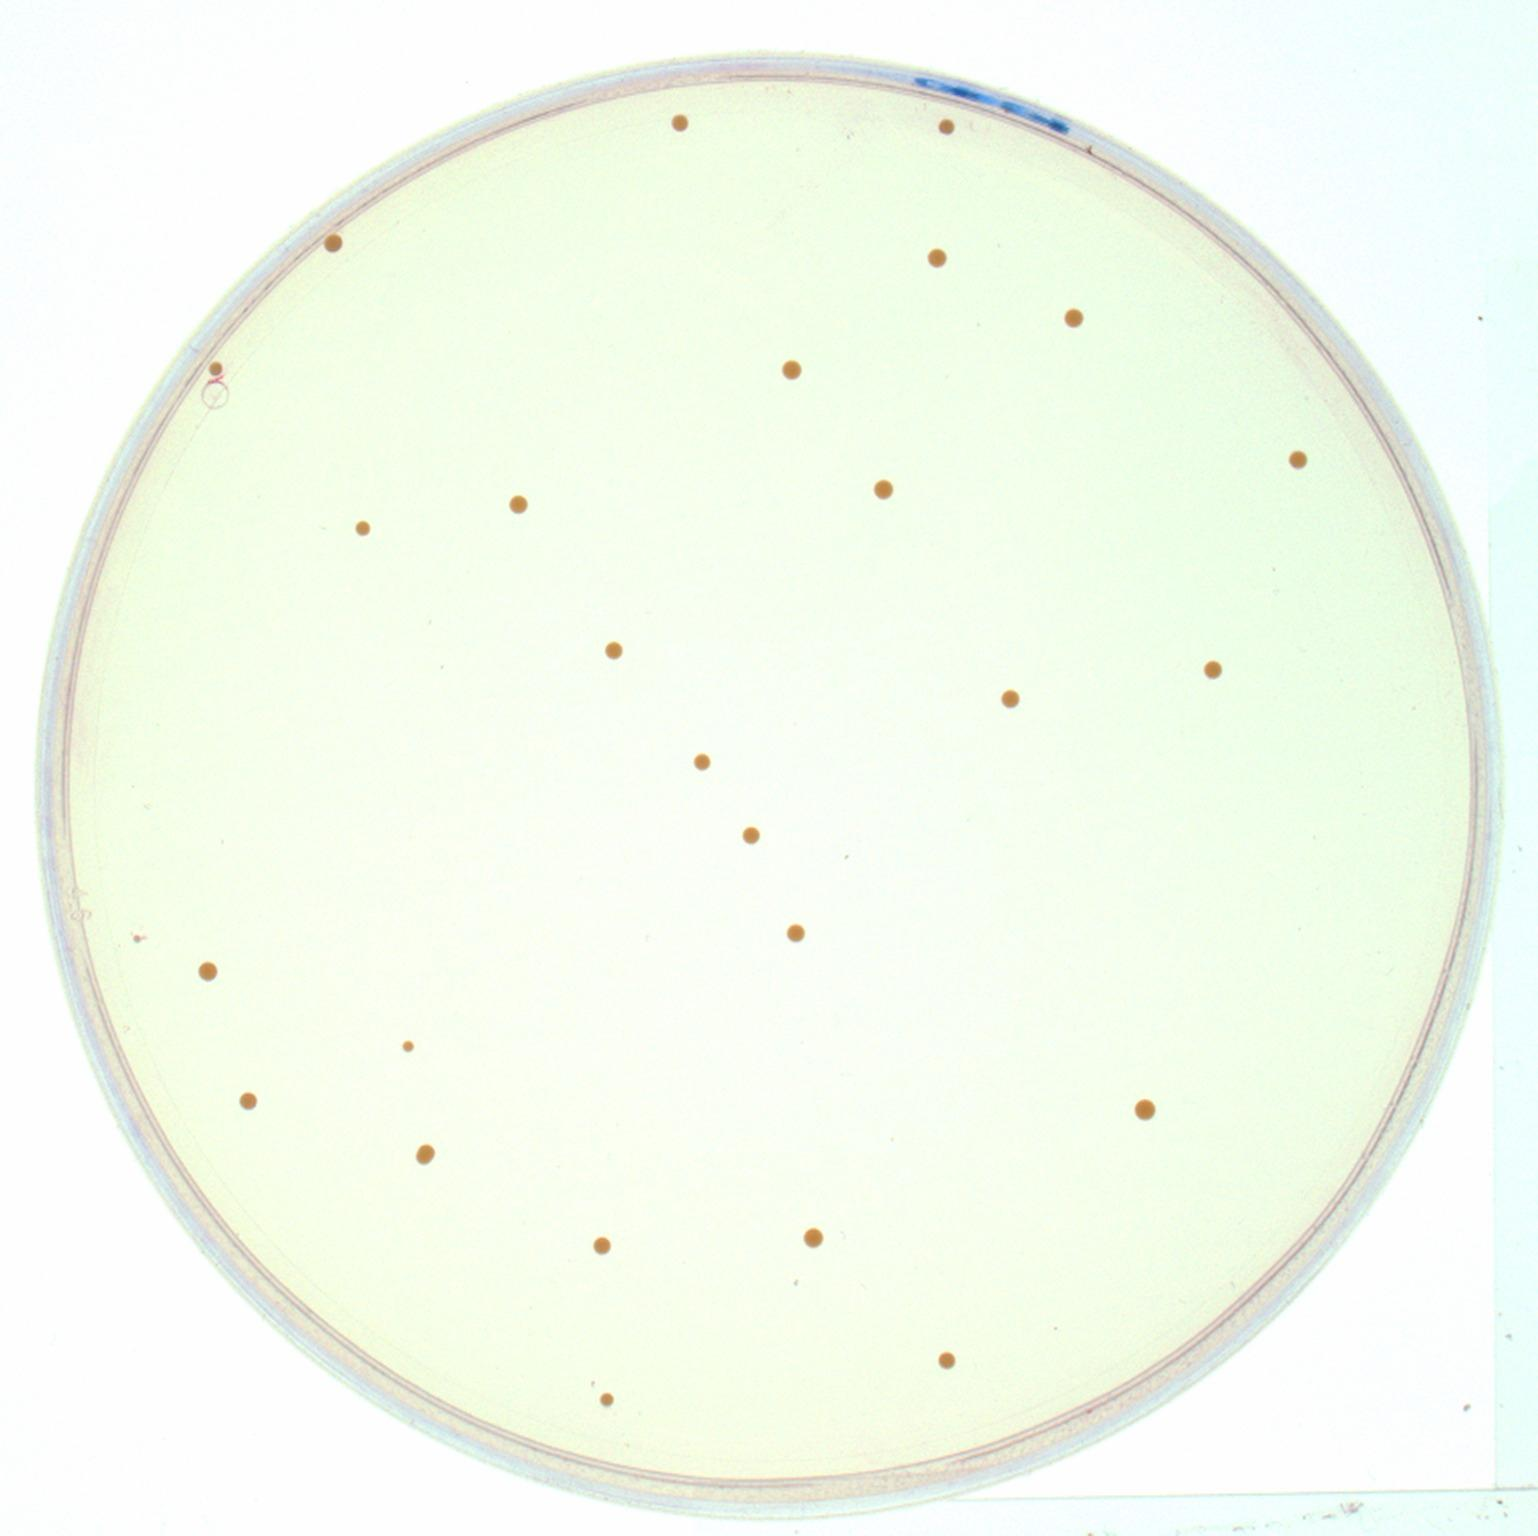colony: (777, 356, 806, 385), (1131, 1096, 1159, 1125), (1285, 444, 1309, 477), (782, 919, 809, 947), (799, 1224, 826, 1252), (868, 475, 896, 501), (924, 245, 950, 271), (319, 231, 345, 257), (414, 1139, 438, 1167), (1061, 305, 1085, 331), (739, 823, 764, 847), (507, 492, 530, 518), (588, 1232, 612, 1257), (936, 114, 958, 141), (1202, 655, 1223, 682), (934, 1348, 958, 1370), (668, 110, 689, 135), (998, 686, 1020, 709), (198, 961, 220, 985), (238, 1090, 259, 1114), (353, 519, 374, 540), (595, 1390, 618, 1409), (689, 753, 713, 771), (604, 640, 623, 661), (205, 359, 225, 380), (401, 1039, 414, 1054)
